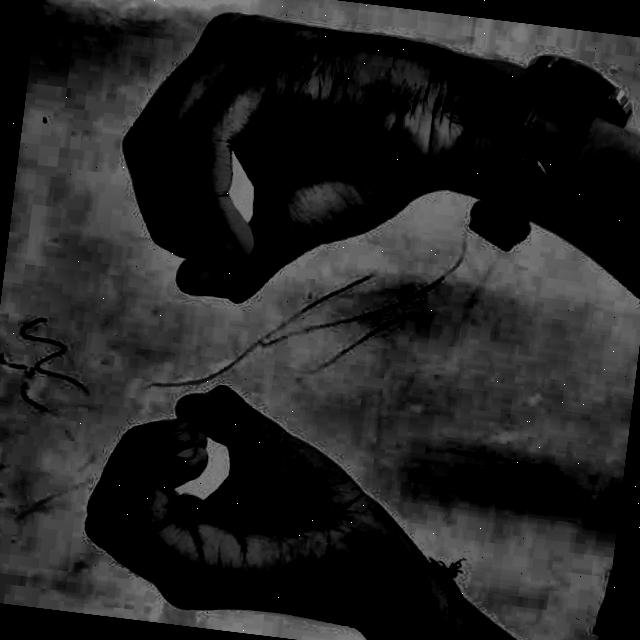Bisharga: (58, 0, 521, 640)
